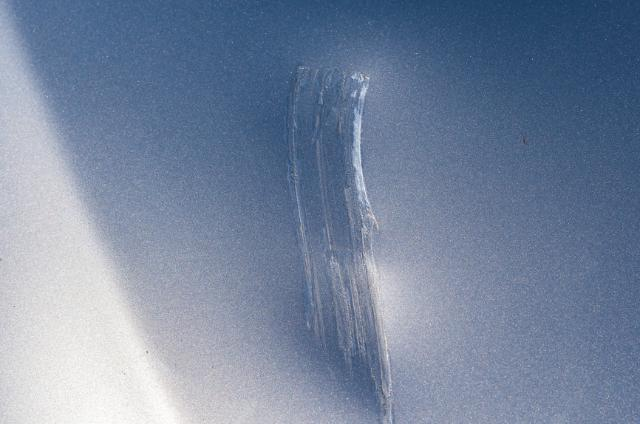Door: (112, 10, 640, 424)
